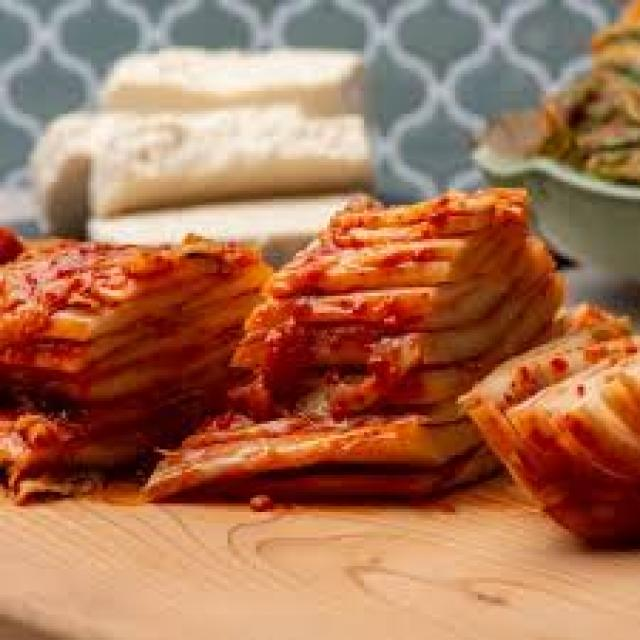kimchi: (165, 185, 575, 549)
